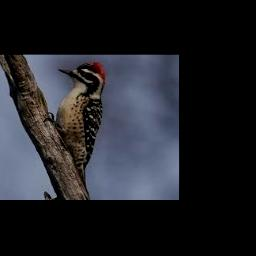Woodpecker: (44, 62, 107, 186)
